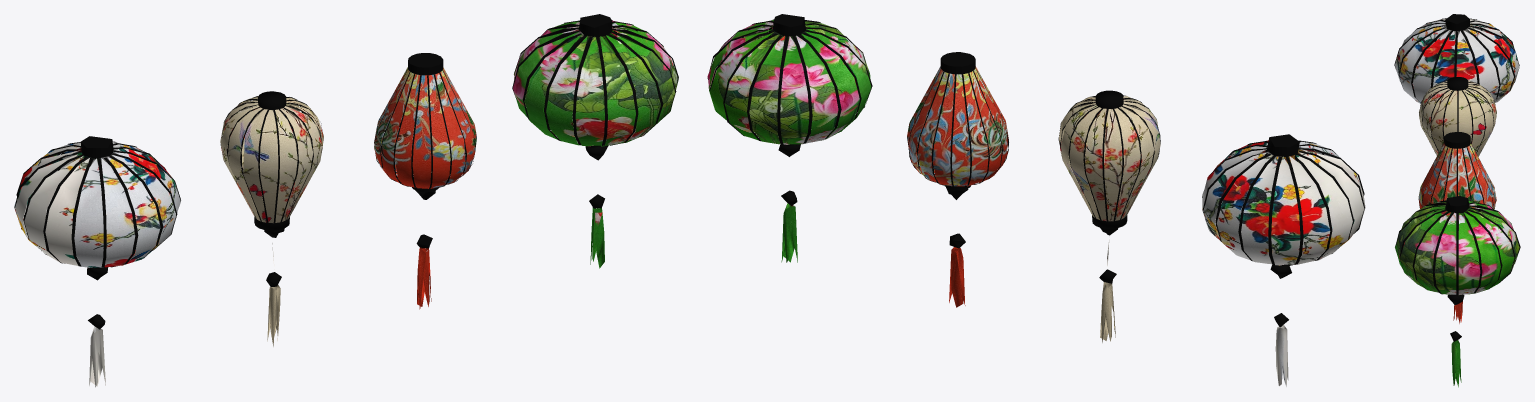
The model's file is den-long-vn.glb.
3 renders of one model, left to right at view 1: azimuth 30°, elevation 25°; view 2: azimuth 150°, elevation 25°; view 3: azimuth 270°, elevation 25°, orthographic. The views are drawn at different scales.
Visible parts, largest first — view 1: lantern 2, lantern 4, lantern 1, lantern 3; view 2: lantern 4, lantern 2, lantern 1, lantern 3; view 3: lantern 4, lantern 2, lantern 3, lantern 1.
Part boxes in pixels (left/top/right/bottom): lantern 2: left=14, top=136, right=180, bottom=387; lantern 4: left=512, top=14, right=678, bottom=268; lantern 1: left=374, top=53, right=476, bottom=309; lantern 3: left=220, top=91, right=323, bottom=346; lantern 4: left=707, top=14, right=872, bottom=262; lantern 2: left=1202, top=134, right=1365, bottom=386; lantern 1: left=907, top=52, right=1008, bottom=307; lantern 3: left=1058, top=90, right=1160, bottom=342; lantern 4: left=1395, top=196, right=1520, bottom=387; lantern 2: left=1394, top=14, right=1519, bottom=103; lantern 3: left=1419, top=77, right=1496, bottom=159; lantern 1: left=1418, top=131, right=1496, bottom=323.
Size of the model in its own units: 1 by 0.3694 by 0.2269.
Materials: 5 (4 with a texture image).
